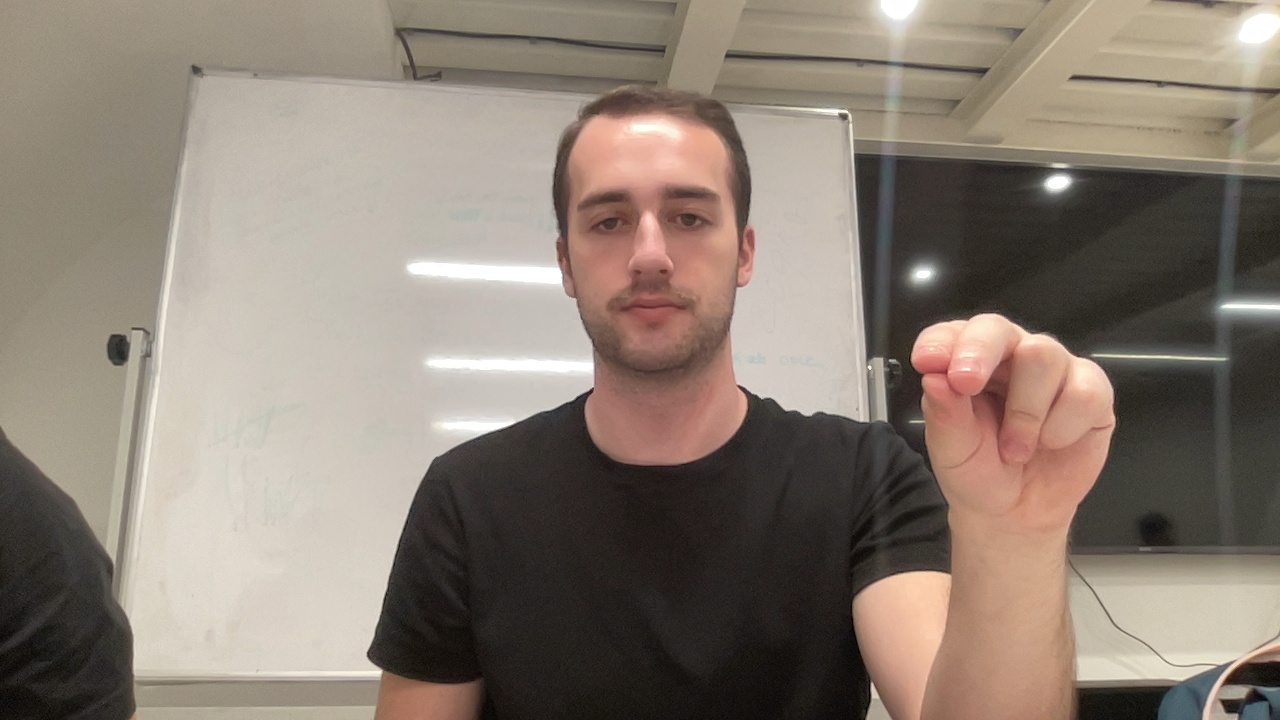No: (902, 306, 1124, 575)
